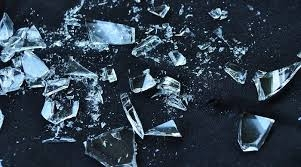glass: (66, 15, 140, 50), (83, 124, 141, 167), (1, 12, 45, 61), (252, 61, 301, 102), (235, 109, 275, 154), (118, 90, 149, 140), (156, 74, 188, 113), (19, 48, 50, 88), (40, 96, 79, 125), (145, 118, 185, 140), (125, 67, 158, 93), (130, 33, 162, 57), (221, 59, 248, 86), (1, 65, 25, 95), (43, 76, 71, 97), (166, 48, 189, 69), (145, 2, 171, 19)
